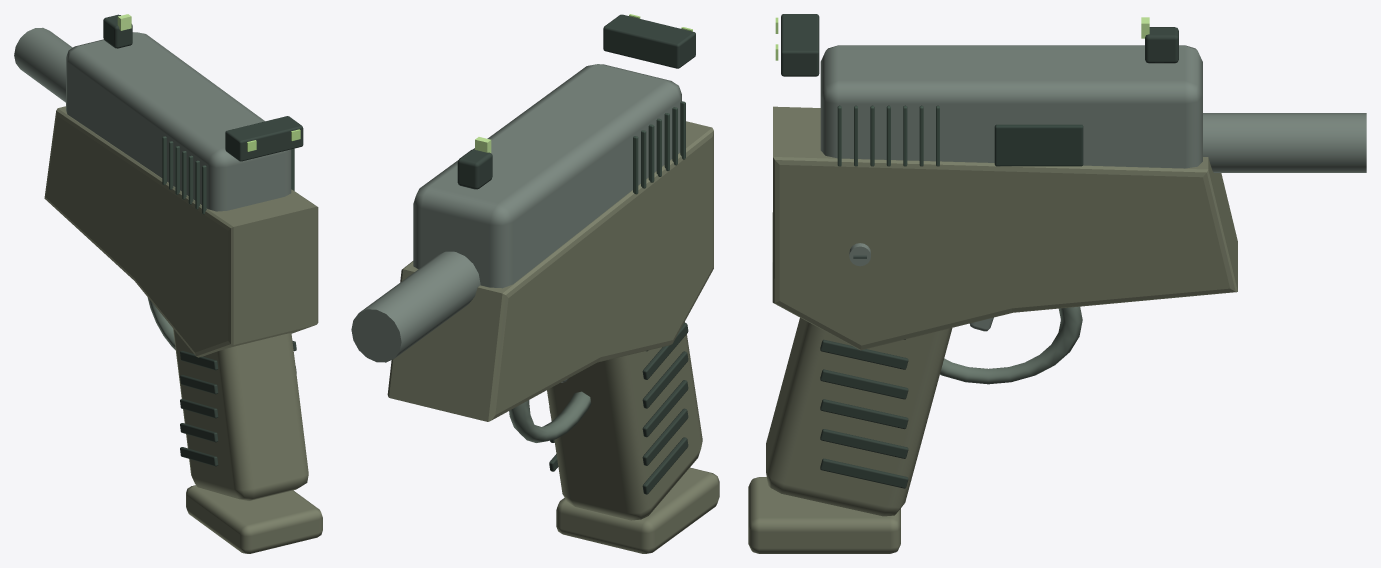
3 views of the same model, side by side, from view 1: azimuth 30°, elevation 25°; view 2: azimuth 150°, elevation 25°; view 3: azimuth 270°, elevation 25° (orthographic). The views are drawn at different scales.
Visible parts, largest first — view 1: p2000, bolt, magazine; view 2: p2000, bolt, magazine; view 3: p2000, bolt, magazine.
Part boxes in pixels (<box>): p2000: <box>14,14,318,500</box>; bolt: <box>66,32,294,214</box>; magazine: <box>186,485,322,553</box>; p2000: <box>351,14,713,520</box>; bolt: <box>413,64,685,288</box>; magazine: <box>556,467,719,553</box>; p2000: <box>766,14,1366,516</box>; bolt: <box>820,45,1202,168</box>; magazine: <box>748,477,900,553</box>.
Bounding box in the file's own units: 0.1055 × 0.4145 × 0.453.
